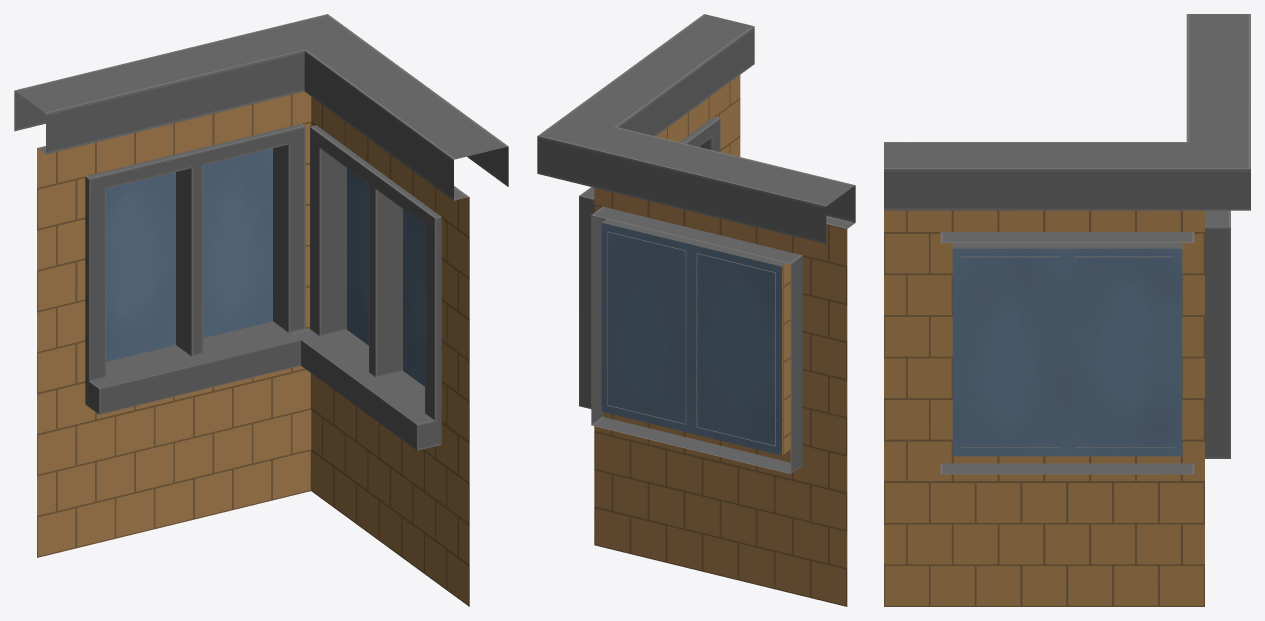
File: Wall_1_top_InvertedCorner.fbx
The picture shows the model from 3 angles, left to right: view 1: azimuth 30°, elevation 25°; view 2: azimuth 150°, elevation 25°; view 3: azimuth 270°, elevation 25°; orthographic projection. The views are drawn at different scales.
Parts seen in each view (by area): view 1: Wall_1_top_InvertedCorner; view 2: Wall_1_top_InvertedCorner; view 3: Wall_1_top_InvertedCorner.
Boxes of the visible parts, bbox=[...] form: Wall_1_top_InvertedCorner: bbox=[14, 14, 508, 606]; Wall_1_top_InvertedCorner: bbox=[537, 14, 855, 606]; Wall_1_top_InvertedCorner: bbox=[884, 14, 1250, 606].
Bounding box in the file's own units: 2.8 × 3.85 × 2.8.
